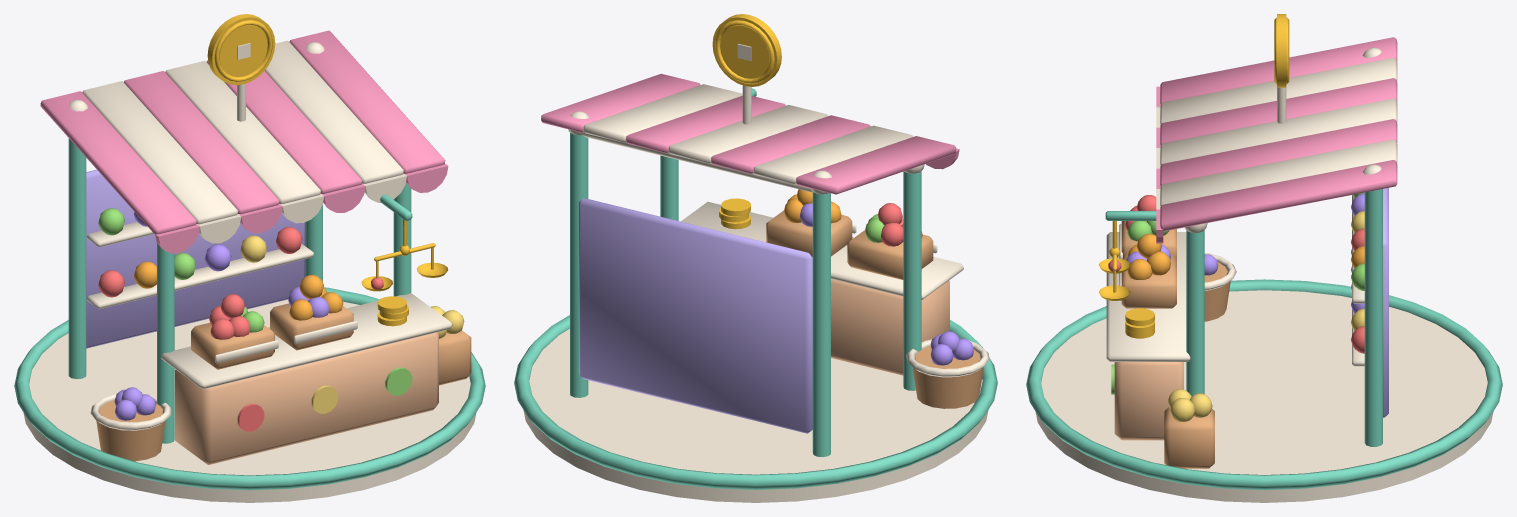
The model's file is market.glb.
3 views of the same model, side by side, from view 1: azimuth 30°, elevation 25°; view 2: azimuth 150°, elevation 25°; view 3: azimuth 270°, elevation 25° (orthographic). The views are drawn at different scales.
Parts seen in each view (by area): view 1: market; view 2: market; view 3: market.
Boxes of the visible parts, bbox=[...] form: market: bbox=[14, 14, 485, 502]; market: bbox=[514, 14, 997, 502]; market: bbox=[1026, 14, 1502, 502].
Size of the model in its own units: 4.14 by 3.72 by 4.14.
